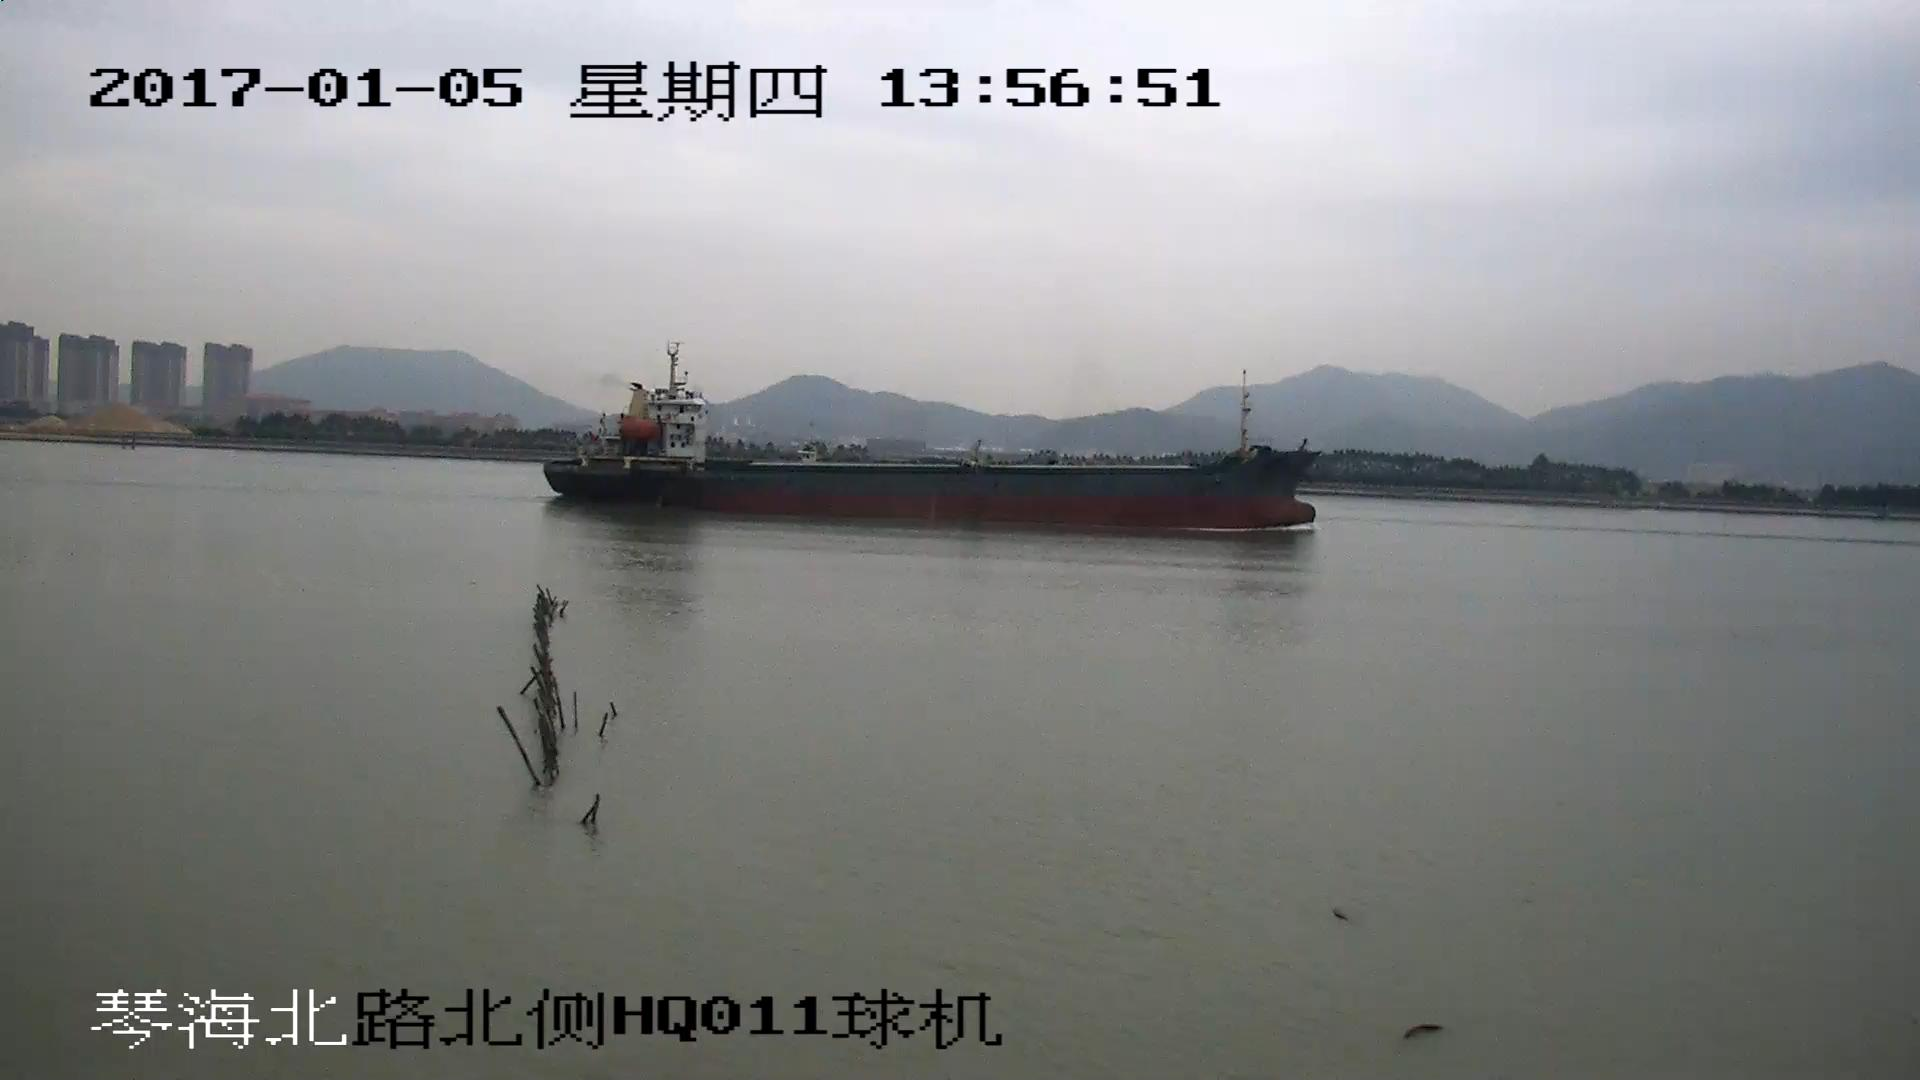general cargo ship: (539, 343, 1319, 531)
